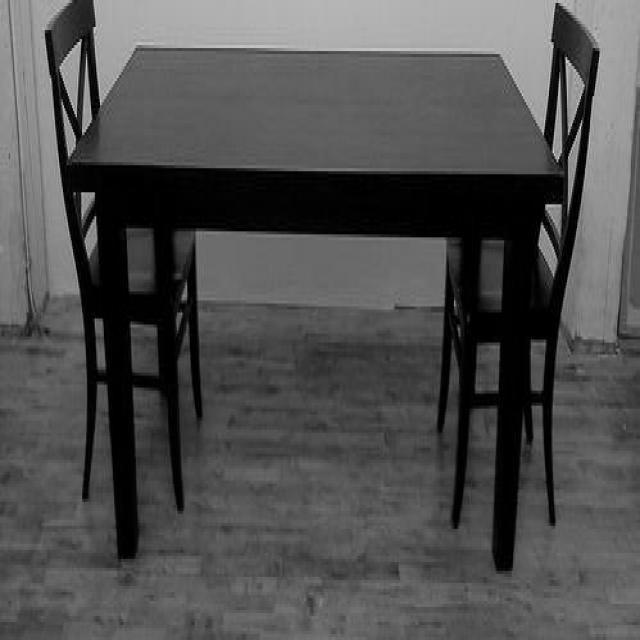table: (70, 43, 562, 571)
